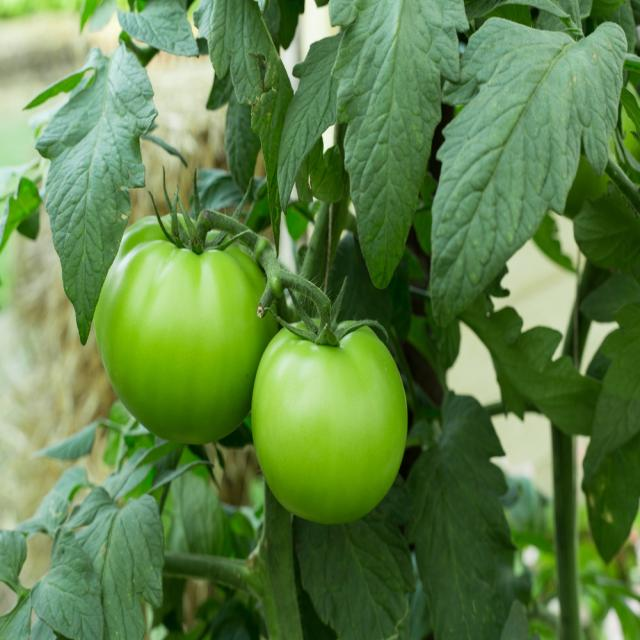unripe tomato: (99, 177, 414, 539)
